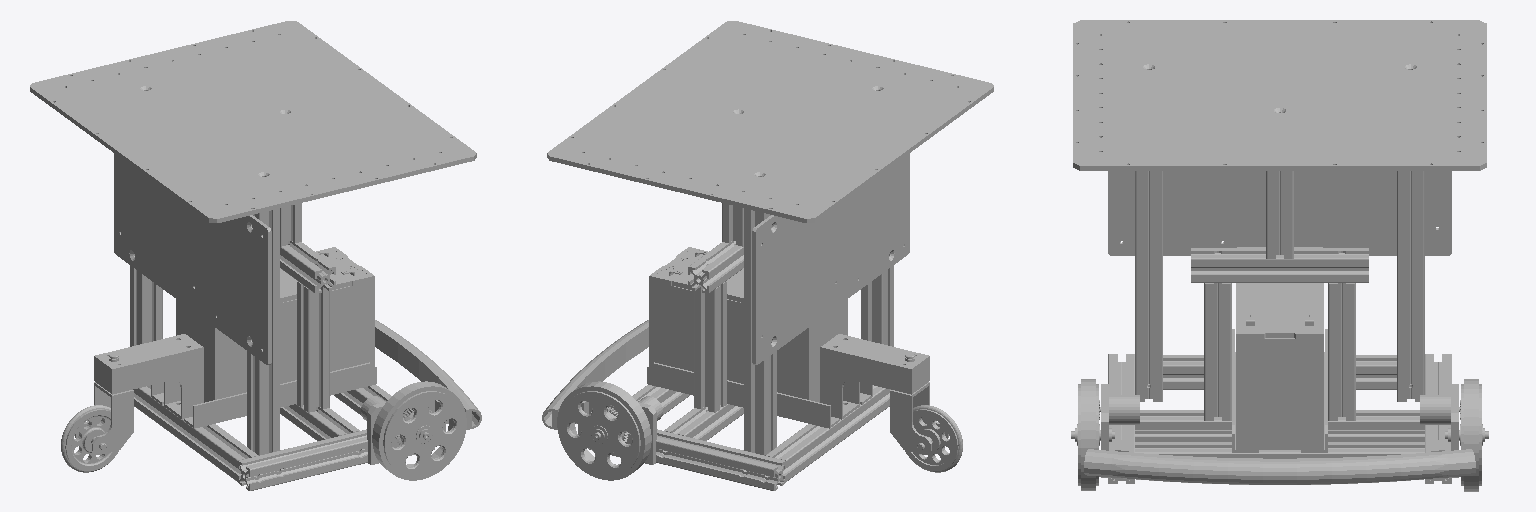
The robot description file, URDF, robot "ojama":
<?xml version="1.0" ?>
<!-- =================================================================================== -->
<!-- |    This document was autogenerated by xacro from beego_ojama.urdf               | -->
<!-- |    EDITING THIS FILE BY HAND IS NOT RECOMMENDED                                 | -->
<!-- =================================================================================== -->
<robot name="ojama">
  <material name="gray">
    <color rgba="0.75 0.75 0.75 1"/>
  </material>
  <!-- ===============  Body =============== -->
  <link name="base_link">
    <visual name="visual">
      <origin rpy="0 0 1.5707963" xyz="0 0 0"/>
      <geometry>
        <mesh filename="package://beego_gazebo/meshes/base_link.STL"/>
      </geometry>
      <material name="gray"/>
    </visual>
    <collision name="collision">
      <origin rpy="0 0 0" xyz="-0.05275 0 0.1"/>
      <geometry>
        <box size="0.18 0.24 0.26"/>
      </geometry>
    </collision>
    <inertial>
      <origin rpy="0 0 0" xyz="-0.05 0 0.1"/>
      <mass value="4.92"/>
      <inertia ixx="0.055432" ixy="0" ixz="0" iyy="0.064616" iyz="0" izz="0.064616"/>
    </inertial>
  </link>
  <link name="right_wheel_link">
    <visual>
      <origin rpy="0 0 0" xyz="0 0 0"/>
      <geometry>
        <mesh filename="package://beego_gazebo/meshes/right_wheel_link.STL"/>
      </geometry>
      <material name="gray"/>
    </visual>
    <collision>
      <origin rpy="0 0 0" xyz="0 0 -0.0083"/>
      <geometry>
        <cylinder length="0.015" radius="0.041"/>
      </geometry>
    </collision>
    <inertial>
      <origin rpy="0 0 0" xyz="0 0 -0.0083"/>
      <mass value="0.1"/>
      <inertia ixx="4.39e-05" ixy="0" ixz="0" iyy="4.39e-05" iyz="0" izz="8.405000000000001e-05"/>
    </inertial>
  </link>
  <joint name="right_wheel_joint" type="continuous">
    <origin rpy="-1.5707963 0 0" xyz="0.02225 -0.1308 -0.01"/>
    <parent link="base_link"/>
    <child link="right_wheel_link"/>
    <axis xyz="0 0 1"/>
    <!--<limit effort="1.07" velocity="3.14"/>
    <dynamics damping="0.1"/>-->
  </joint>
  <link name="left_wheel_link">
    <visual>
      <origin rpy="0 0 0" xyz="0 0 0"/>
      <geometry>
        <mesh filename="package://beego_gazebo/meshes/left_wheel_link.STL"/>
      </geometry>
      <material name="gray"/>
    </visual>
    <collision>
      <origin rpy="0 0 0" xyz="0 0 -0.0083"/>
      <geometry>
        <cylinder length="0.015" radius="0.041"/>
      </geometry>
    </collision>
    <inertial>
      <origin rpy="0 0 0" xyz="0 0 -0.0083"/>
      <mass value="0.1"/>
      <inertia ixx="4.39e-05" ixy="0" ixz="0" iyy="4.39e-05" iyz="0" izz="8.405000000000001e-05"/>
    </inertial>
  </link>
  <joint name="left_wheel_joint" type="continuous">
    <origin rpy="1.5707963 0 0" xyz="0.02225 0.1308 -0.01"/>
    <parent link="base_link"/>
    <child link="left_wheel_link"/>
    <axis xyz="0 0 -1"/>
    <!--<limit effort="1.07" velocity="3.14"/>
    <dynamics damping="0.1"/>-->
  </joint>
  <link name="caster_link">
    <collision>
      <origin rpy="0 0 0" xyz="0 0 0"/>
      <geometry>
        <sphere radius="0.041"/>
      </geometry>
    </collision>
  </link>
  <joint name="caster_joint" type="fixed">
    <origin rpy="0 0 0" xyz="-0.203 0 -0.01"/>
    <parent link="base_link"/>
    <child link="caster_link"/>
  </joint>
  <link name="base_footprint"/>
  <joint name="base_footprint_joint" type="fixed">
    <origin rpy="0 0 0" xyz="0 0 0.05"/>
    <parent link="base_footprint"/>
    <child link="base_link"/>
  </joint>
  <link name="hokuyo_link">
    <visual>
      <origin rpy="0 0 0" xyz="0 0 0"/>
      <geometry>
        <mesh filename="package://rrbot_description/meshes/hokuyo.dae"/>
      </geometry>
    </visual>
    <!--<collision>
      <origin xyz="0 0 0" rpy="0 0 0"/>
      <geometry>
        <box size="0.05 0.05 0.07"/>
      </geometry>
    </collision>s-->
    <!--<inertial>
      <origin xyz="0 0 0" rpy="0 0 0"/>
      <mass value="0.16"/>
      <inertia ixx="${(1/12) * 0.16 * (0.05*0.05 + 0.07*0.07)}" ixy="0" ixz="0"
               iyy="${(1/12) * 0.16 * (0.05*0.05 + 0.07*0.07)}" iyz="0"
               izz="${(1/12) * 0.16 * (0.05*0.05 + 0.05*0.05)}"/>
    </inertial>-->
  </link>
  <joint name="hokuyo_joint" type="fixed">
    <origin rpy="0 0 0" xyz="0.012 0 0.185"/>
    <parent link="base_link"/>
    <child link="hokuyo_link"/>
    <axis xyz="0 1 0"/>
  </joint>
  <!-- ===============  Transmission =============== -->
  <transmission name="left_wheel_trans">
    <type>transmission_interface/SimpleTransmission</type>
    <joint name="left_wheel_joint">
      <hardwareInterface>hardware_interface/VelocityJointInterface</hardwareInterface>
    </joint>
    <actuator name="left_wheel_motor">
      <hardwareInterface>hardware_interface/VelocityJointInterface</hardwareInterface>
      <mechanicalReduction>30</mechanicalReduction>
    </actuator>
  </transmission>
  <transmission name="right_wheel_trans">
    <type>transmission_interface/SimpleTransmission</type>
    <joint name="right_wheel_joint">
      <hardwareInterface>hardware_interface/VelocityJointInterface</hardwareInterface>
    </joint>
    <actuator name="right_wheel_motor">
      <hardwareInterface>hardware_interface/VelocityJointInterface</hardwareInterface>
      <mechanicalReduction>30</mechanicalReduction>
    </actuator>
  </transmission>
  <!-- =============== Gazebo =============== -->
  <gazebo>
    <plugin filename="libgazebo_ros_control.so" name="gazebo_ros_control">
      <robotNamespace>ojama</robotNamespace>
      <robotSimType>gazebo_ros_control/DefaultRobotHWSim</robotSimType>
      <legacyModeNS>true</legacyModeNS>
    </plugin>
  </gazebo>
  <gazebo reference="base_link">
    <selfCollide>true</selfCollide>
    <mu1 value="0.05"/>
    <mu2 value="0.05"/>
  </gazebo>
  <gazebo reference="left_wheel_link">
    <selfCollide>true</selfCollide>
    <mu1 value="1.0"/>
    <mu2 value="1.0"/>
    <!--<kp value="10000000.0"/>
    <kd value="1.0"/>-->
  </gazebo>
  <gazebo reference="right_wheel_link">
    <selfCollide>true</selfCollide>
    <mu1 value="1.0"/>
    <mu2 value="1.0"/>
    <!--<kp value="10000000.0"/>
    <kd value="1.0"/>-->
  </gazebo>
  <gazebo reference="caster_link">
    <selfCollide>true</selfCollide>
    <mu1 value="0.1"/>
    <mu2 value="0.1"/>
  </gazebo>
</robot>

--- What the picture shows (computed from the rendered views, not written in the file) ---
The picture shows the robot from 3 angles, left to right: view 1: azimuth 30°, elevation 25°; view 2: azimuth 150°, elevation 25°; view 3: azimuth 270°, elevation 25°; orthographic projection.
Model ojama with 6 links and 5 joints (2 continuous, 3 fixed), rooted at base_footprint, posed every joint at zero.
Links seen in each view (by area): view 1: base_link, right_wheel_link; view 2: base_link, left_wheel_link; view 3: base_link, left_wheel_link, right_wheel_link.
Link boxes in pixels (bbox=[...]): base_link: bbox=[30, 21, 481, 490]; right_wheel_link: bbox=[372, 381, 466, 480]; base_link: bbox=[542, 21, 993, 490]; left_wheel_link: bbox=[557, 381, 651, 480]; base_link: bbox=[1071, 20, 1488, 484]; left_wheel_link: bbox=[1460, 379, 1482, 491]; right_wheel_link: bbox=[1077, 379, 1099, 490].
Size in the robot's own frame: 0.3278 by 0.3034 by 0.28 metres.
3 mesh visuals loaded from 4 distinct referenced files (3 binary STL); not drawn: 1 (reference not matched to a file when rendering).
